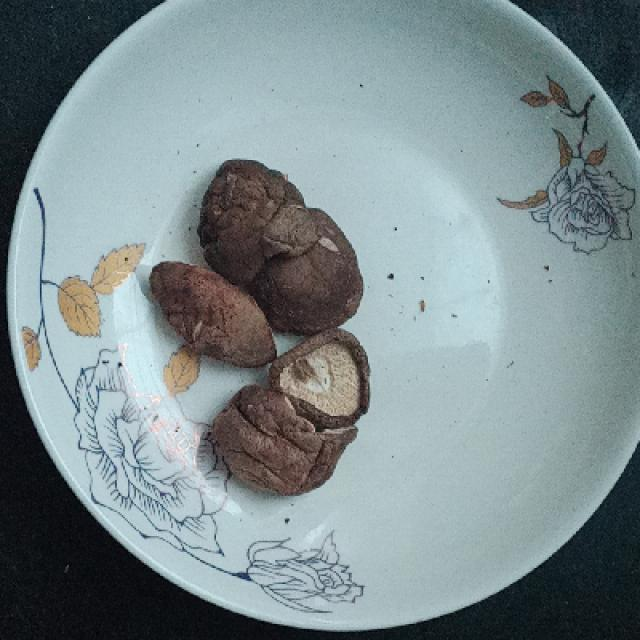Lentinus edodes: (204, 165, 361, 329), (216, 390, 354, 498), (152, 259, 277, 365), (273, 329, 370, 428)
